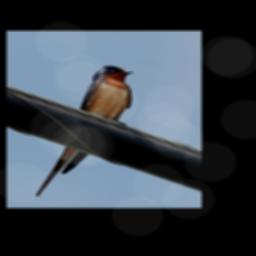Swallow: (35, 65, 134, 197)
